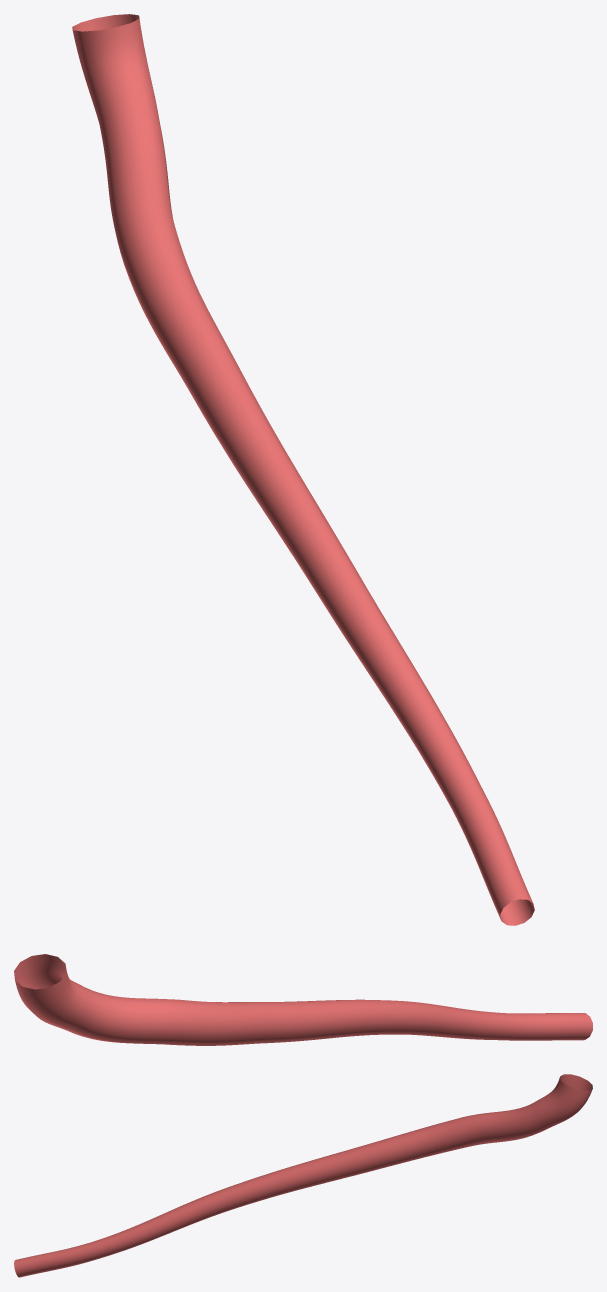
The model's file is Dorsalis_pedis_artery.r_BezierCurve.180.glb.
3 renders of one model, top to bottom at view 1: azimuth 30°, elevation 25°; view 2: azimuth 150°, elevation 25°; view 3: azimuth 270°, elevation 25°, orthographic. The views are drawn at different scales.
Parts seen in each view (by area): view 1: Dorsalis_pedis_artery.r_BezierCurve.180; view 2: Dorsalis_pedis_artery.r_BezierCurve.180; view 3: Dorsalis_pedis_artery.r_BezierCurve.180.
Part boxes in pixels (bbox=[...]): Dorsalis_pedis_artery.r_BezierCurve.180: bbox=[72, 14, 534, 925]; Dorsalis_pedis_artery.r_BezierCurve.180: bbox=[14, 954, 592, 1045]; Dorsalis_pedis_artery.r_BezierCurve.180: bbox=[14, 1074, 592, 1277].
Bounding box in the file's own units: 0.0146 × 0.0339 × 0.0757.
